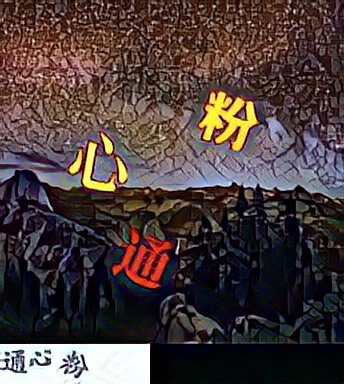B7DB: (196, 89, 261, 153)
CDA8: (111, 226, 176, 290)
D0C4: (67, 131, 132, 195)
